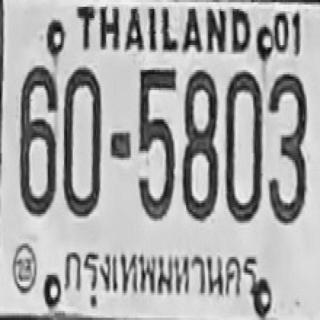N00: (224, 71, 262, 222), (63, 65, 100, 216)
N03: (268, 73, 307, 224)
N05: (137, 68, 177, 218)
N06: (19, 65, 57, 216)
N08: (182, 69, 218, 220)
P04: (59, 242, 262, 308)
